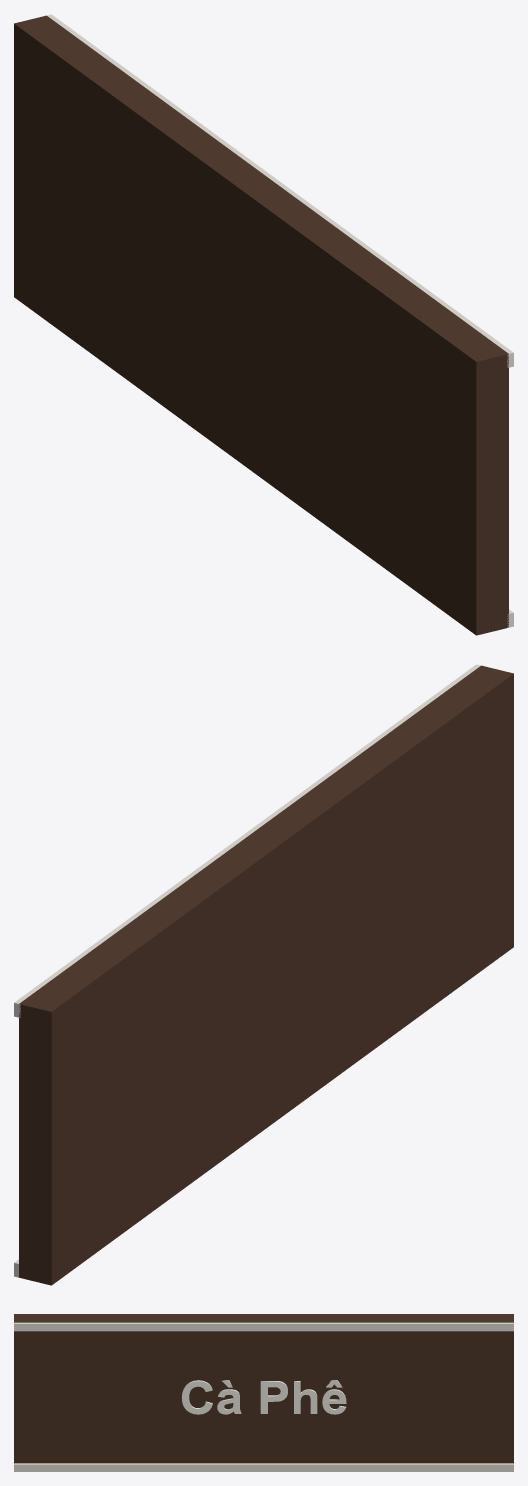
The model's file is OW_Mau_Bang_5_5_3.fbx.
The picture shows the model from 3 angles, top to bottom: view 1: azimuth 30°, elevation 25°; view 2: azimuth 150°, elevation 25°; view 3: azimuth 270°, elevation 25°; orthographic projection. The views are drawn at different scales.
Visible parts, largest first — view 1: OW_Bang_Cà Phê.002; view 2: OW_Bang_Cà Phê.002; view 3: OW_Bang_Cà Phê.002, Chữ • Cà Phê.002_Mesh.
Boxes of the visible parts, <box> form: OW_Bang_Cà Phê.002: <box>14,14,513,635</box>; OW_Bang_Cà Phê.002: <box>14,664,513,1285</box>; OW_Bang_Cà Phê.002: <box>14,1314,513,1471</box>; Chữ • Cà Phê.002_Mesh: <box>181,1380,346,1414</box>.
Bounding box in the file's own units: 0.24 × 1.6 × 4.9.
